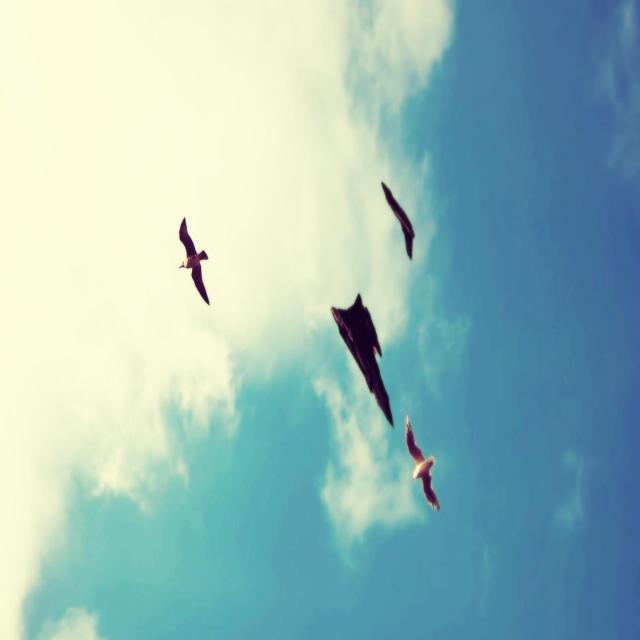airplane: (330, 292, 394, 429), (379, 174, 416, 262)
